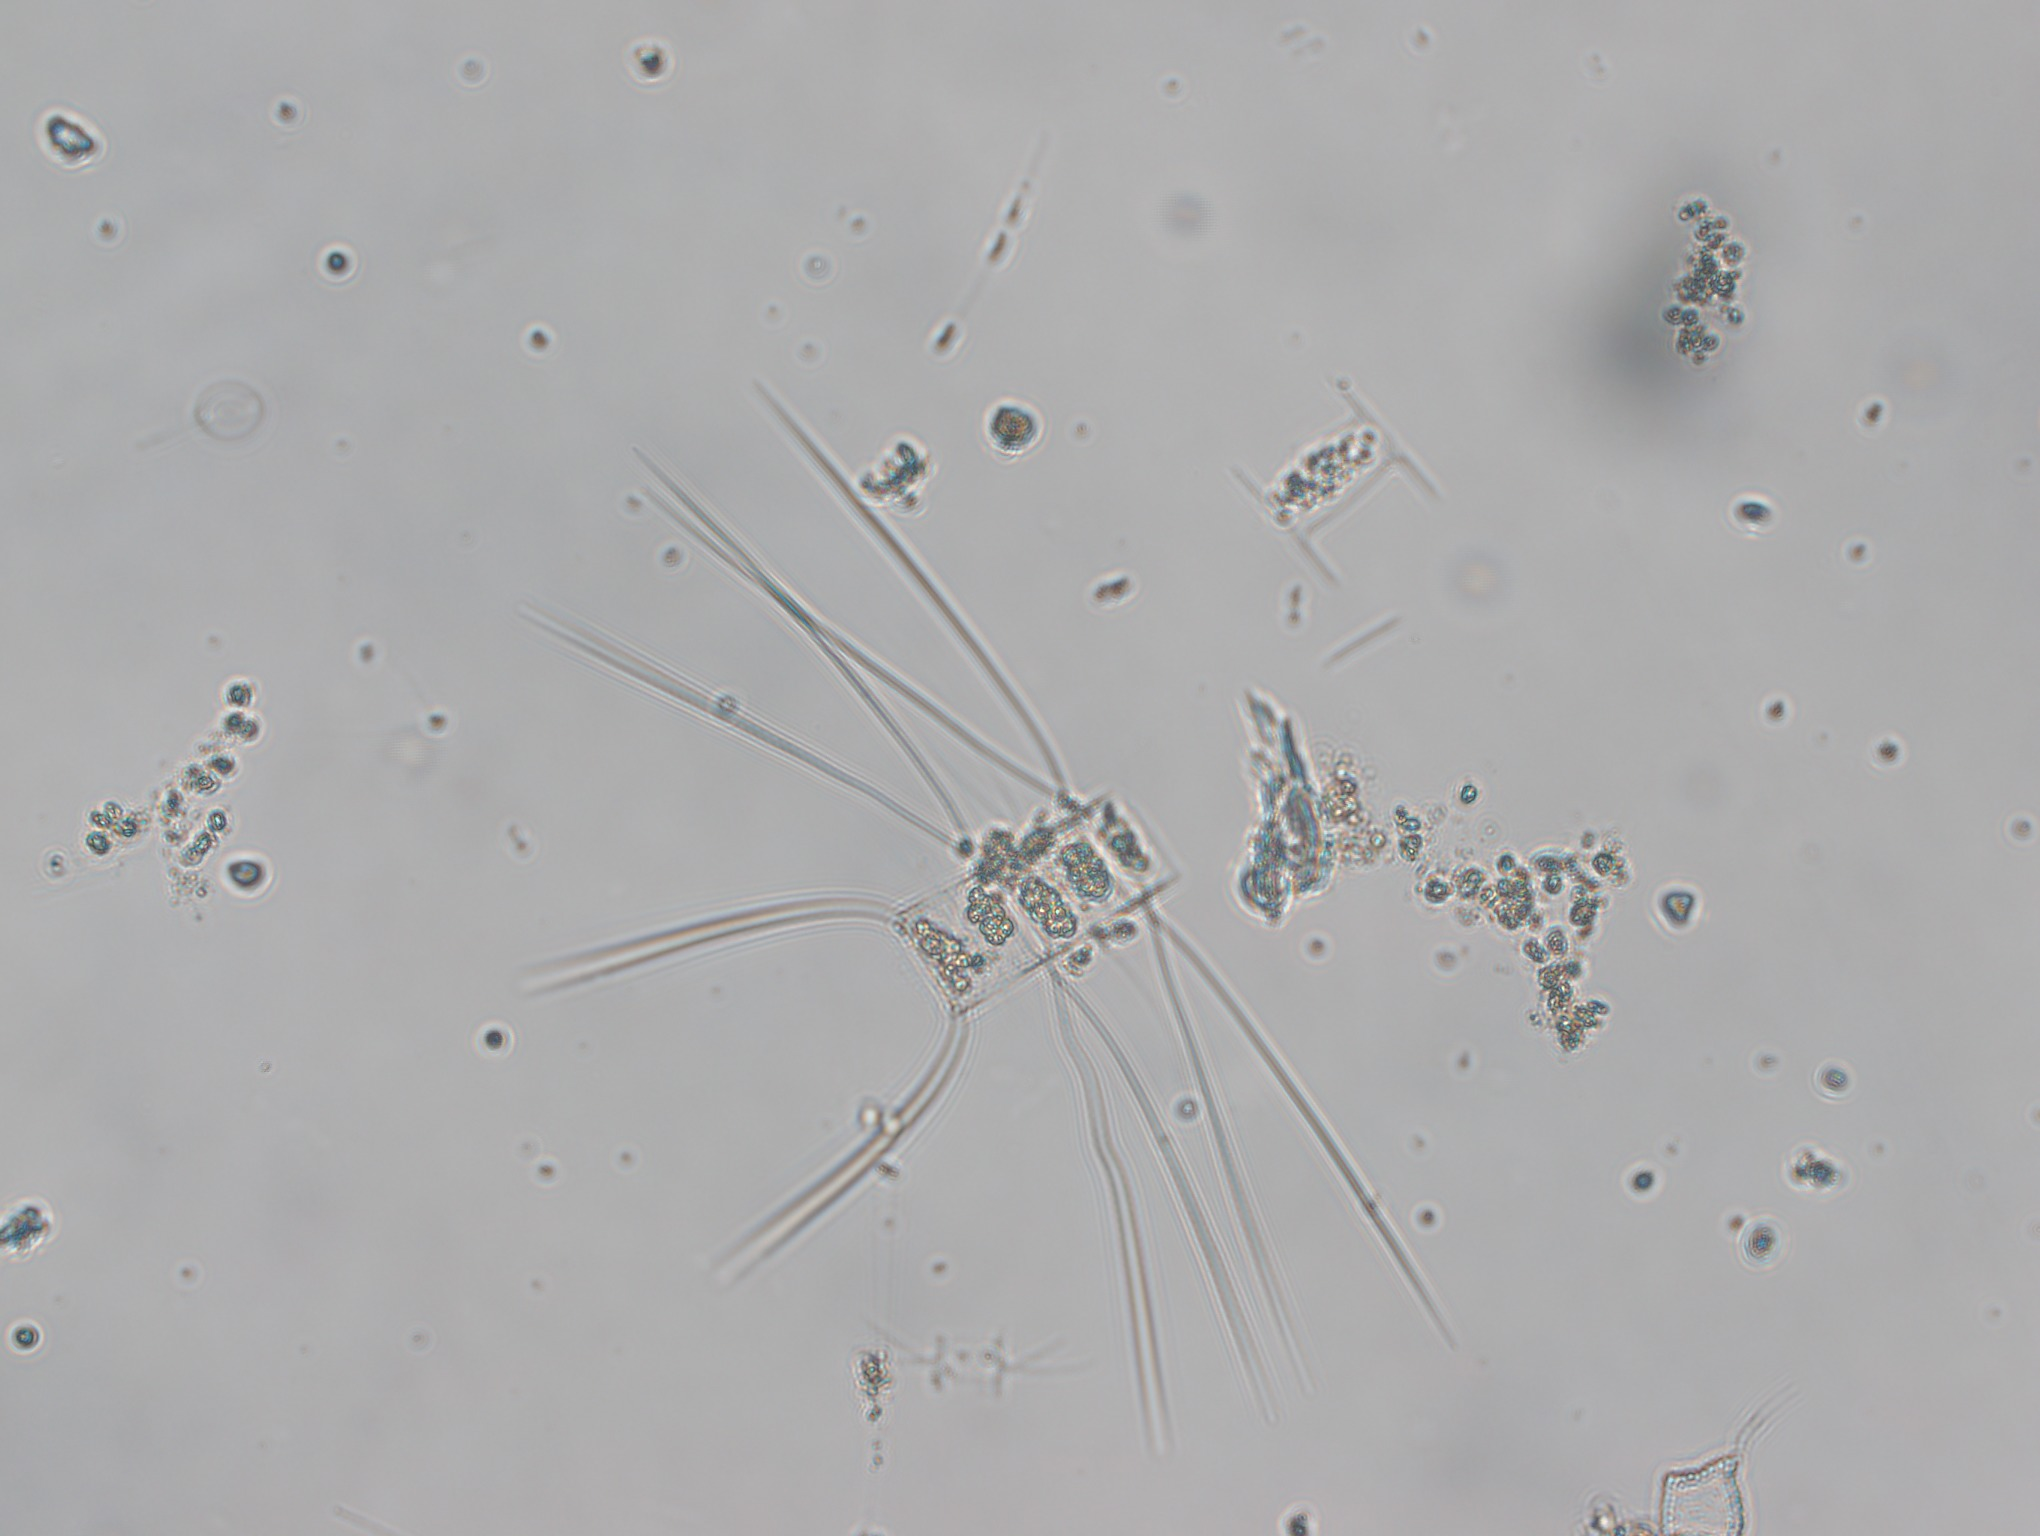chaetoceros: (510, 382, 1463, 1434)
